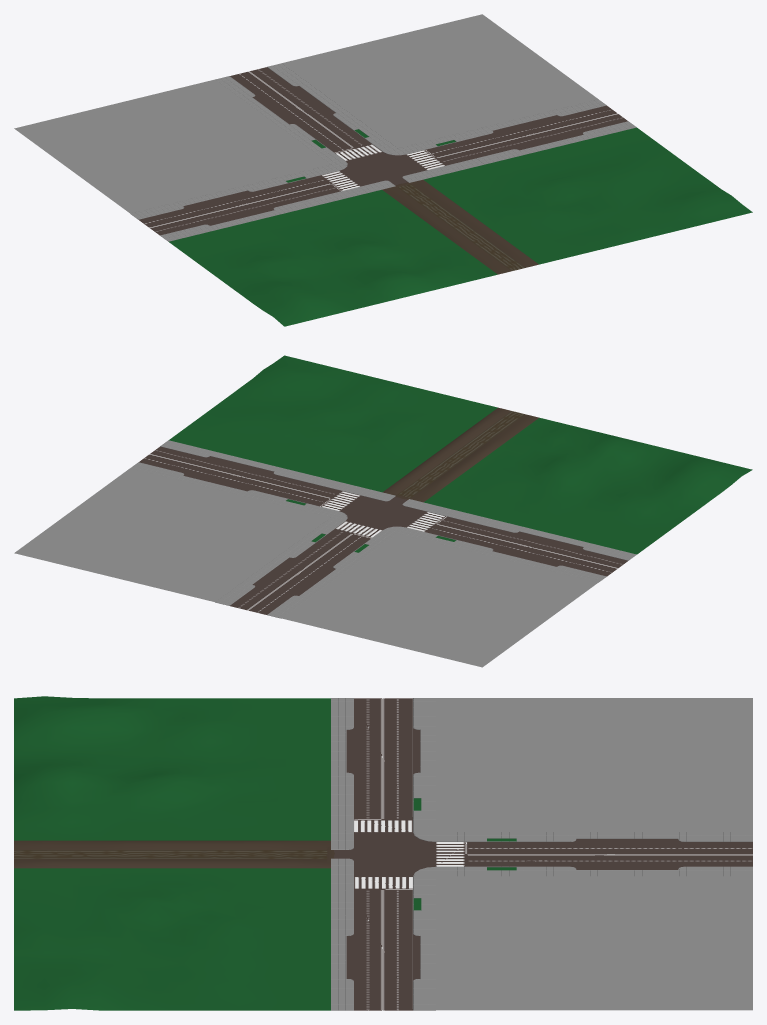
The model's file is TileCityForest1.fbx.
The picture shows the model from 3 angles, top to bottom: view 1: azimuth 30°, elevation 25°; view 2: azimuth 150°, elevation 25°; view 3: azimuth 270°, elevation 25°; orthographic projection. The views are drawn at different scales.
Parts seen in each view (by area): view 1: Plane.047, Sidewalk1.117, Road1.008, Road1.009, Plane.046, Road1.005, Road.002, Sidewalk1.030; view 2: Plane.047, Sidewalk1.117, Road1.008, Road1.009, Plane.046, Road1.005, Road.002, Sidewalk1.030; view 3: Plane.047, Sidewalk1.117, Road1.008, Road1.009, Plane.046, Road1.005, Road.002, Sidewalk1.030, Sidewalk1.034, Sidewalk1.123, Sidewalk1.129, Road1.006 (+19 smaller).
Boxes of the visible parts, <box> form: Plane.047: <box>168,127,752,326</box>; Sidewalk1.117: <box>14,14,598,213</box>; Road1.008: <box>139,105,627,235</box>; Road1.009: <box>230,67,370,152</box>; Plane.046: <box>382,180,538,274</box>; Road1.005: <box>339,152,426,186</box>; Road.002: <box>398,184,525,271</box>; Sidewalk1.030: <box>294,120,386,156</box>; Plane.047: <box>169,355,752,554</box>; Sidewalk1.117: <box>14,468,598,667</box>; Road1.008: <box>139,446,627,576</box>; Road1.009: <box>230,529,370,614</box>; Plane.046: <box>382,407,538,502</box>; Road1.005: <box>340,495,427,529</box>; Road.002: <box>397,411,525,497</box>; Sidewalk1.030: <box>294,525,386,560</box>; Plane.047: <box>14,696,330,1010</box>; Sidewalk1.117: <box>436,698,752,1010</box>; Road1.008: <box>354,698,412,1010</box>; Road1.009: <box>467,842,752,866</box>; Plane.046: <box>14,840,334,868</box>; Road1.005: <box>334,832,435,876</box>; Road.002: <box>14,850,327,859</box>; Sidewalk1.030: <box>464,832,538,876</box>; Sidewalk1.034: <box>605,832,649,876</box>; Sidewalk1.123: <box>331,948,435,966</box>; Sidewalk1.129: <box>331,742,435,760</box>; Road1.006: <box>354,876,412,889</box>.
Size of the model in its own units: 20000 by 322 by 20000.
